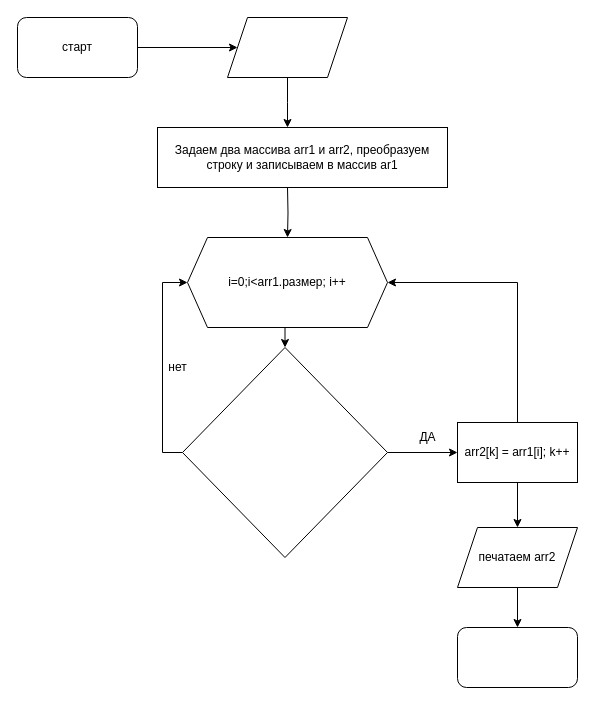
The diagram is 595 pixels wide and 705 high, and some of its shapes have lost their labels. Each missing label, with the box of its shape:
Вводим строку: (226, 16, 348, 78)
если размер arr[i] меньше или равен 3: (182, 346, 388, 558)
Конец: (456, 626, 578, 688)
